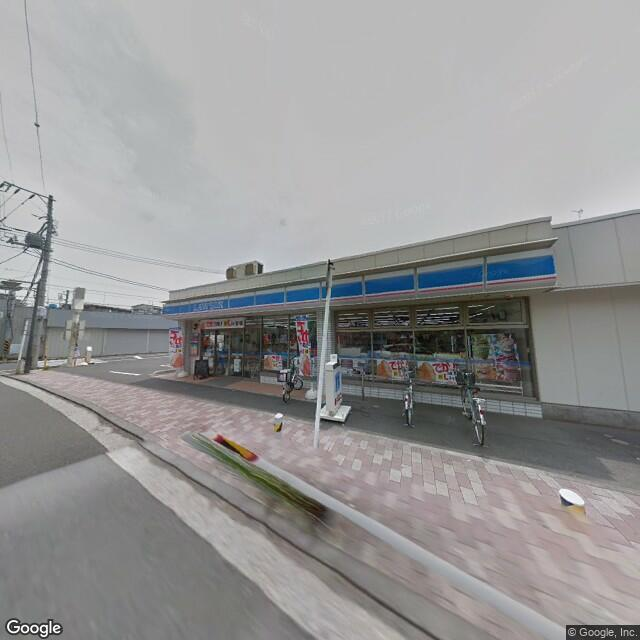lawson: (161, 240, 558, 323)
